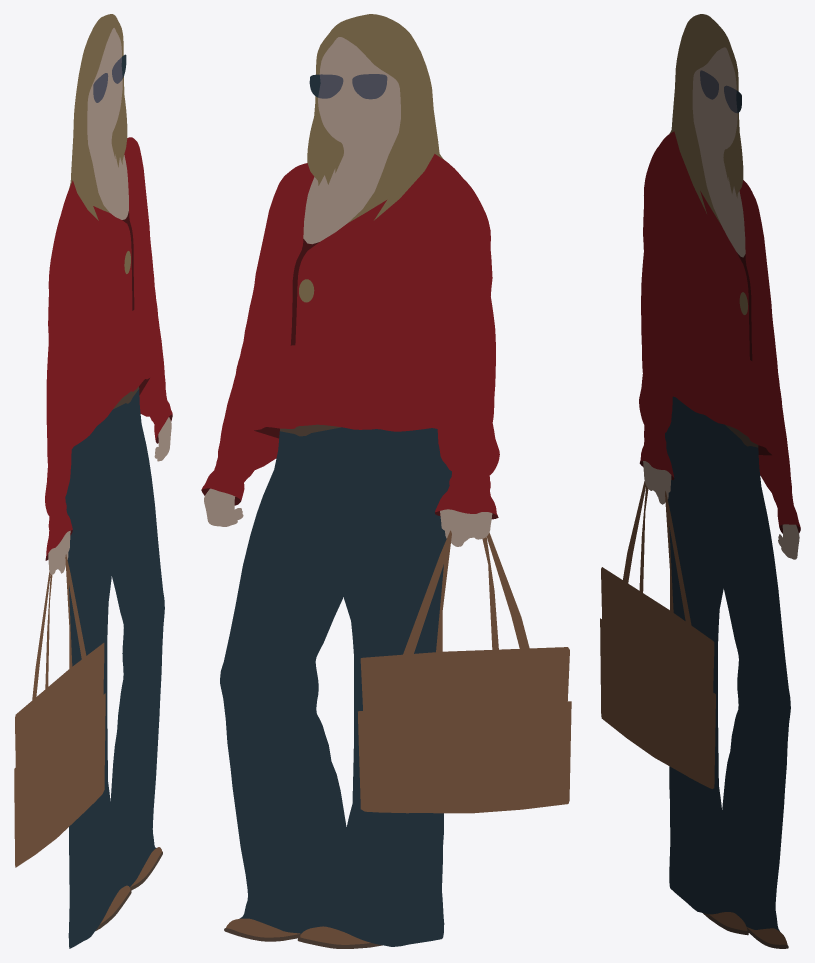
Rendered from Laura.dae.
3 renders of one model, left to right at view 1: azimuth 30°, elevation 25°; view 2: azimuth 150°, elevation 25°; view 3: azimuth 270°, elevation 25°, orthographic. The views are drawn at different scales.
Visible parts, largest first — view 1: Laura (×9); view 2: Laura (×11); view 3: Laura (×9).
Boxes of the visible parts, x1,y1,x2,y2 form: Laura (×9): (14, 14, 172, 948); Laura (×11): (201, 14, 571, 946); Laura (×9): (600, 14, 800, 931).
Bounding box in the file's own units: 20 × 13.5 × 67.02.
